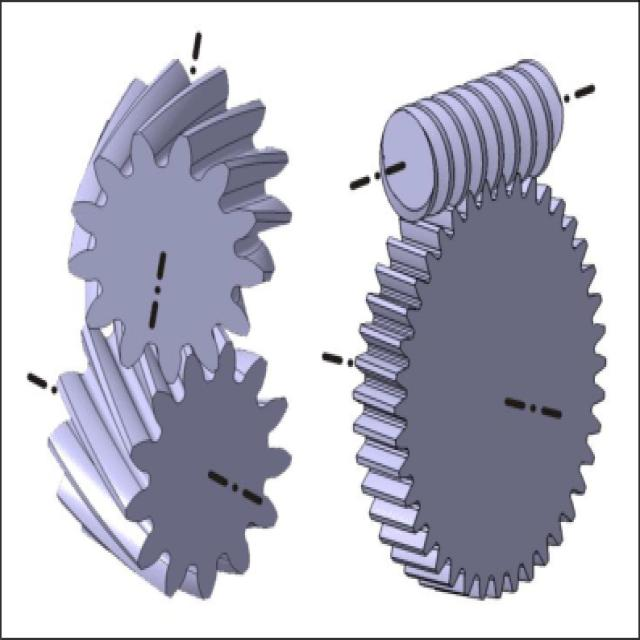Gear: (353, 170, 609, 604), (67, 56, 293, 382), (44, 320, 296, 605), (374, 55, 566, 220)
